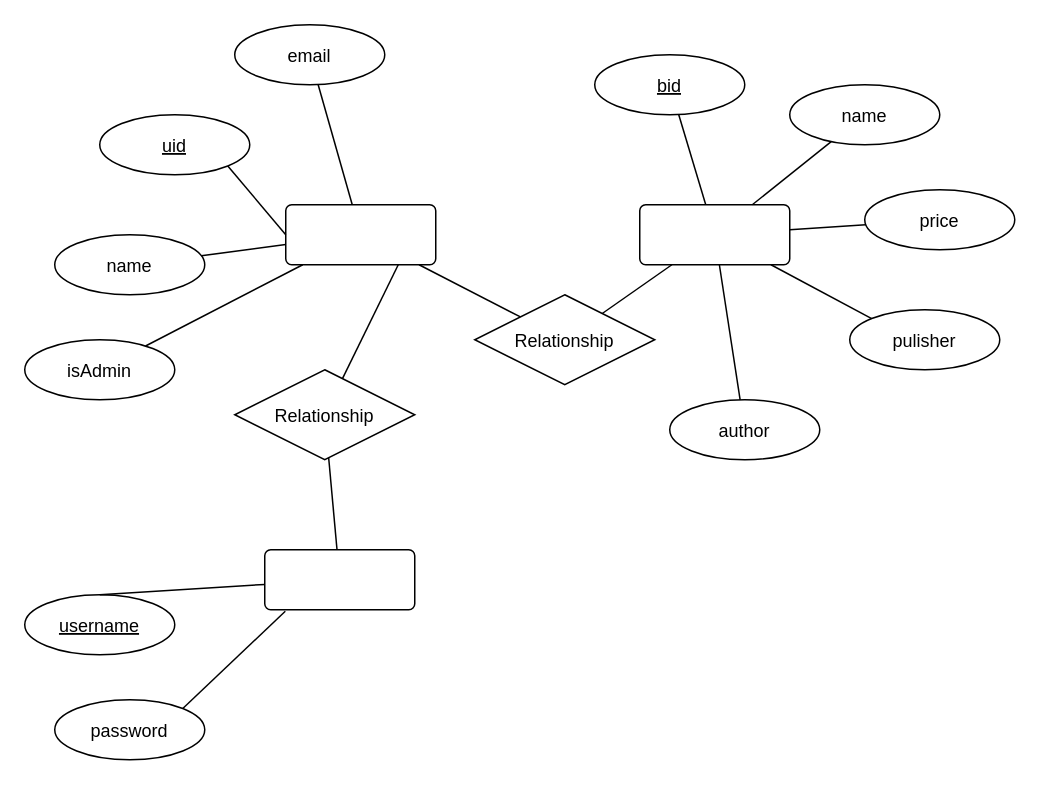
This 1040x785 diagram has some shape labels left out. The centre of each missing label's shape, as x and y in pixels:
account: pixel 339 579
book: pixel 714 234
user: pixel 360 234
